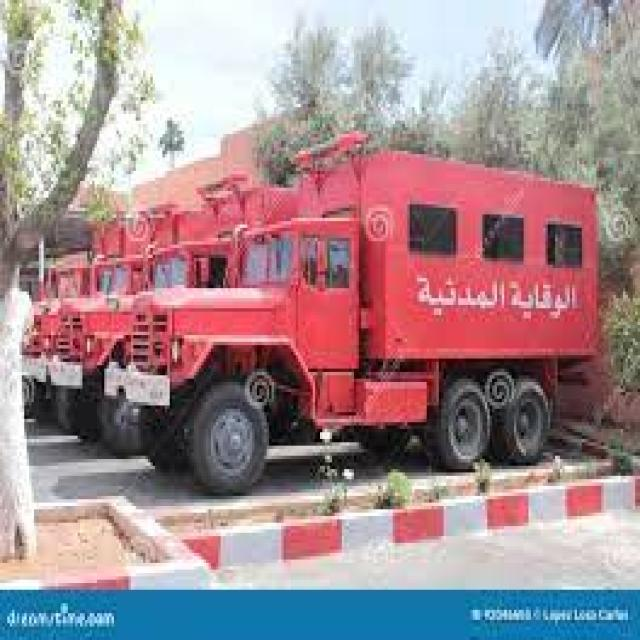pompier: (112, 137, 594, 498)
